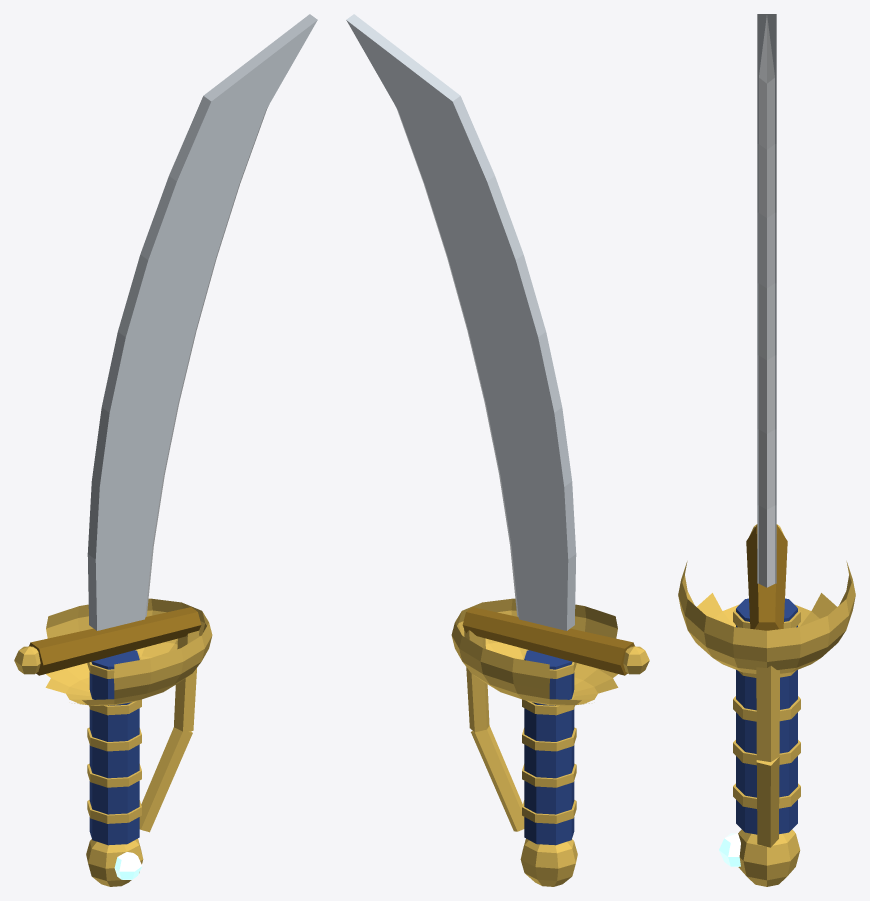
File: mirela_cutlass.glb
The picture shows the model from 3 angles, left to right: view 1: azimuth 30°, elevation 25°; view 2: azimuth 150°, elevation 25°; view 3: azimuth 270°, elevation 25°; orthographic projection. The views are drawn at different scales.
Parts seen in each view (by area): view 1: mirela_cutlass; view 2: mirela_cutlass; view 3: mirela_cutlass.
Part boxes in pixels (x1=…): mirela_cutlass: x1=14, y1=14, x2=317, y2=886; mirela_cutlass: x1=346, y1=14, x2=649, y2=886; mirela_cutlass: x1=678, y1=14, x2=855, y2=886.
Bounding box in the file's own units: 0.5556 × 1.47 × 0.24.
